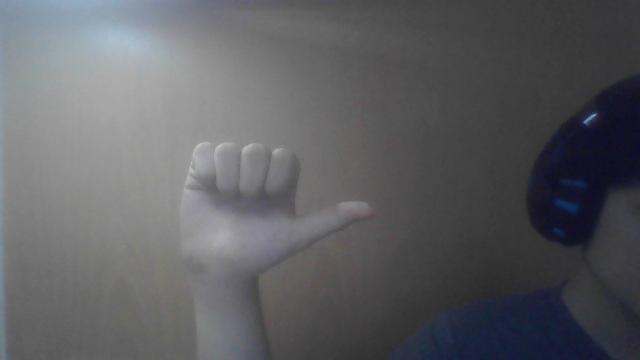left: (178, 137, 382, 287)
